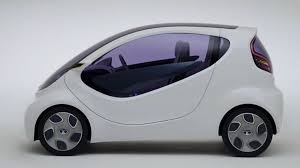Nano: (24, 20, 285, 158)
